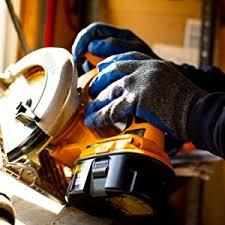gloves: (83, 60, 205, 142), (72, 22, 159, 61)
